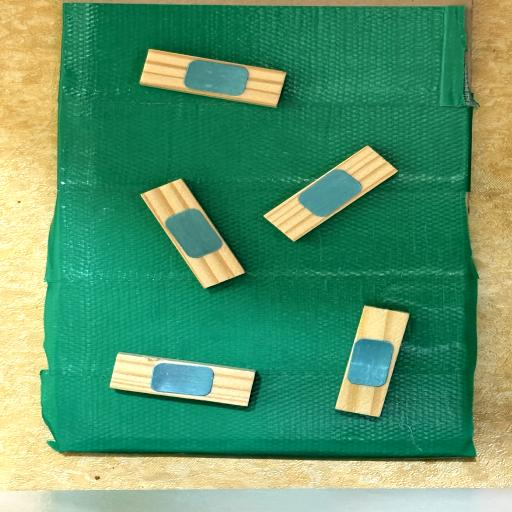objects: (264, 139, 398, 248), (140, 170, 245, 297), (333, 301, 411, 422), (139, 48, 286, 108), (108, 354, 255, 407)
